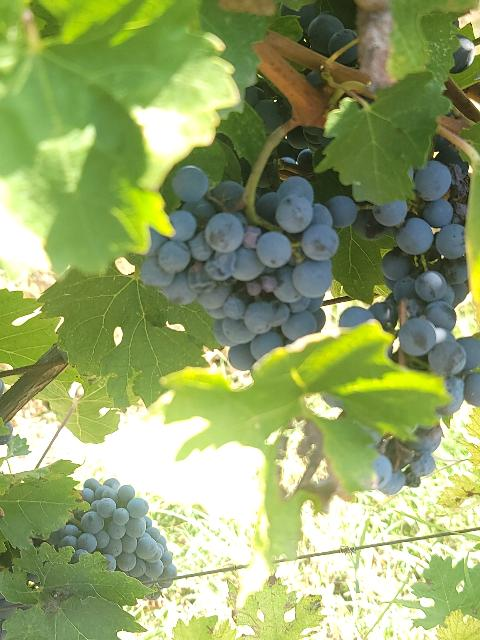grapes: (140, 165, 358, 370), (339, 160, 479, 415), (50, 478, 172, 582)
